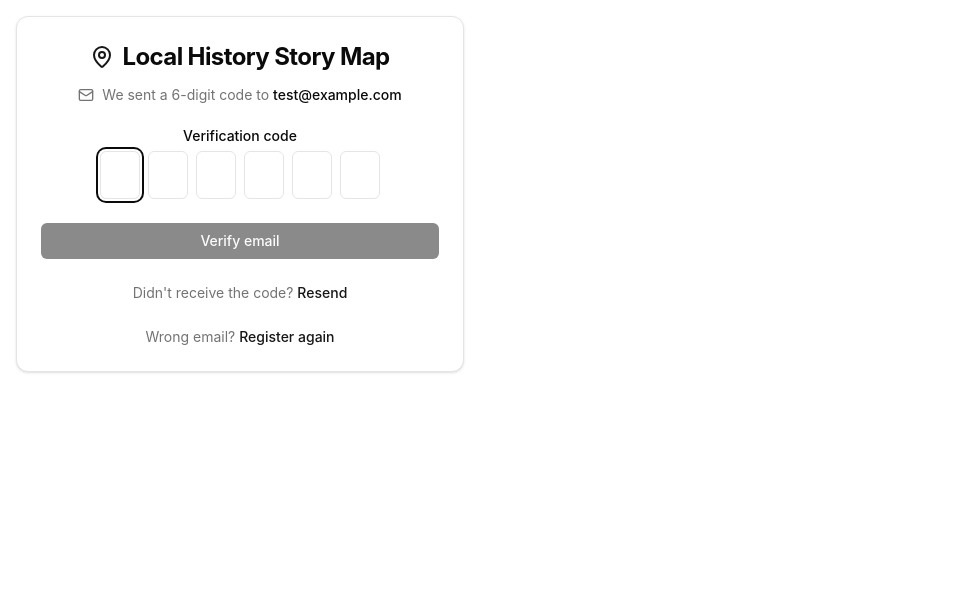
VerifyEmailPage › falls back to /login when auto-login fails
Type keys "123456"
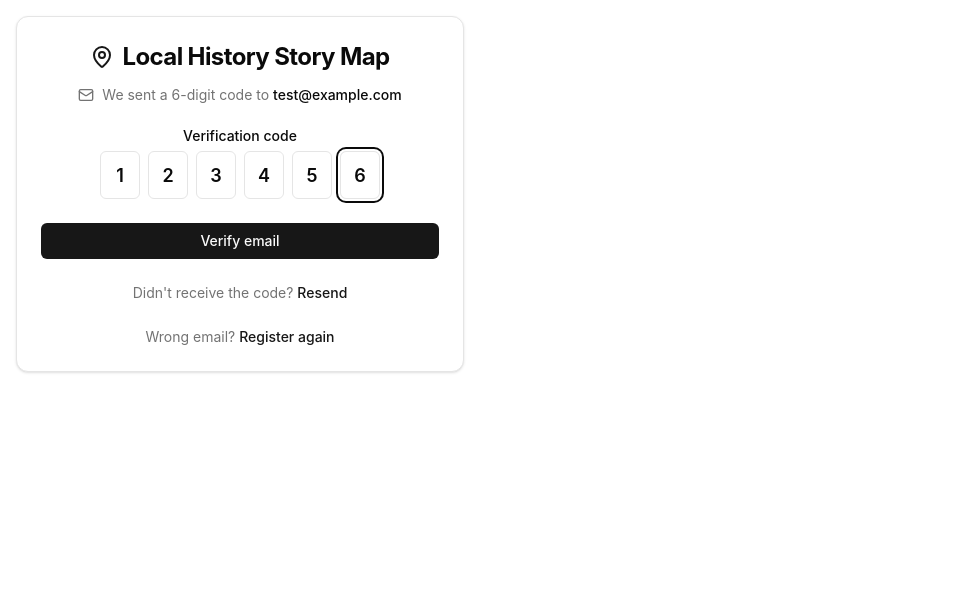
Click the button "Verify email" at (240, 241), box x1=41 y1=223 x2=439 y2=259
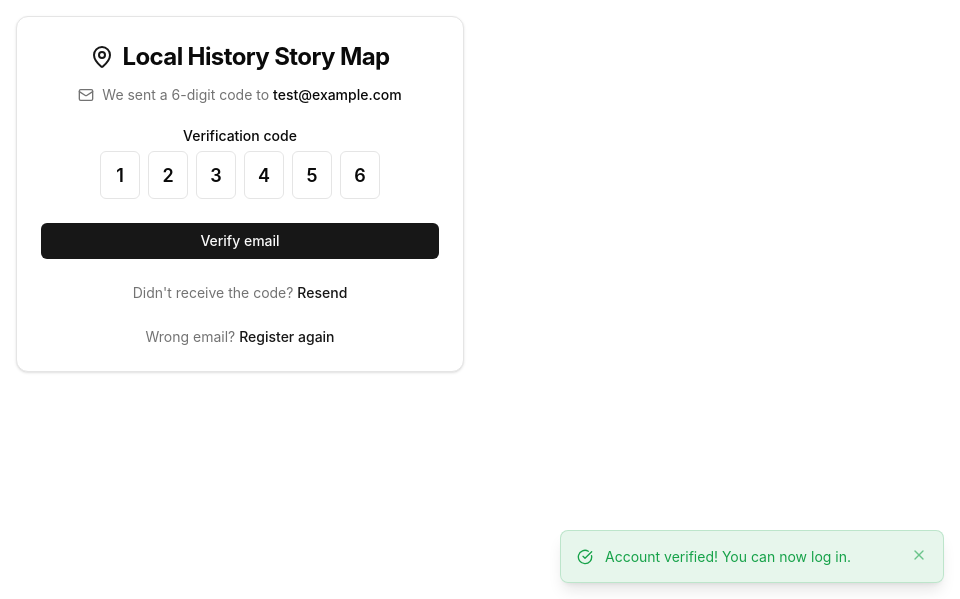
Now the text "Account verified! You can now log in." is shown, box x1=605 y1=548 x2=851 y2=565
